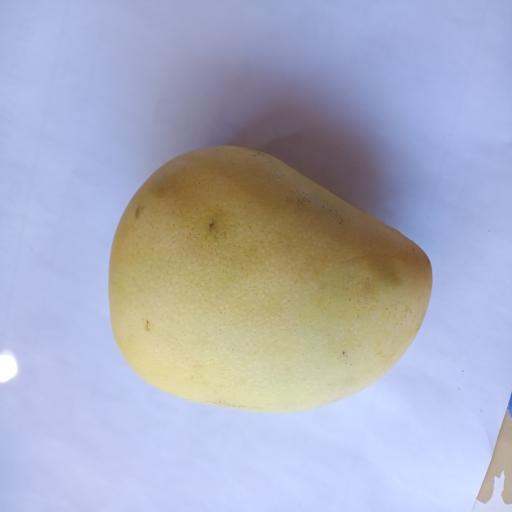mango-ripe: (87, 131, 449, 442)
